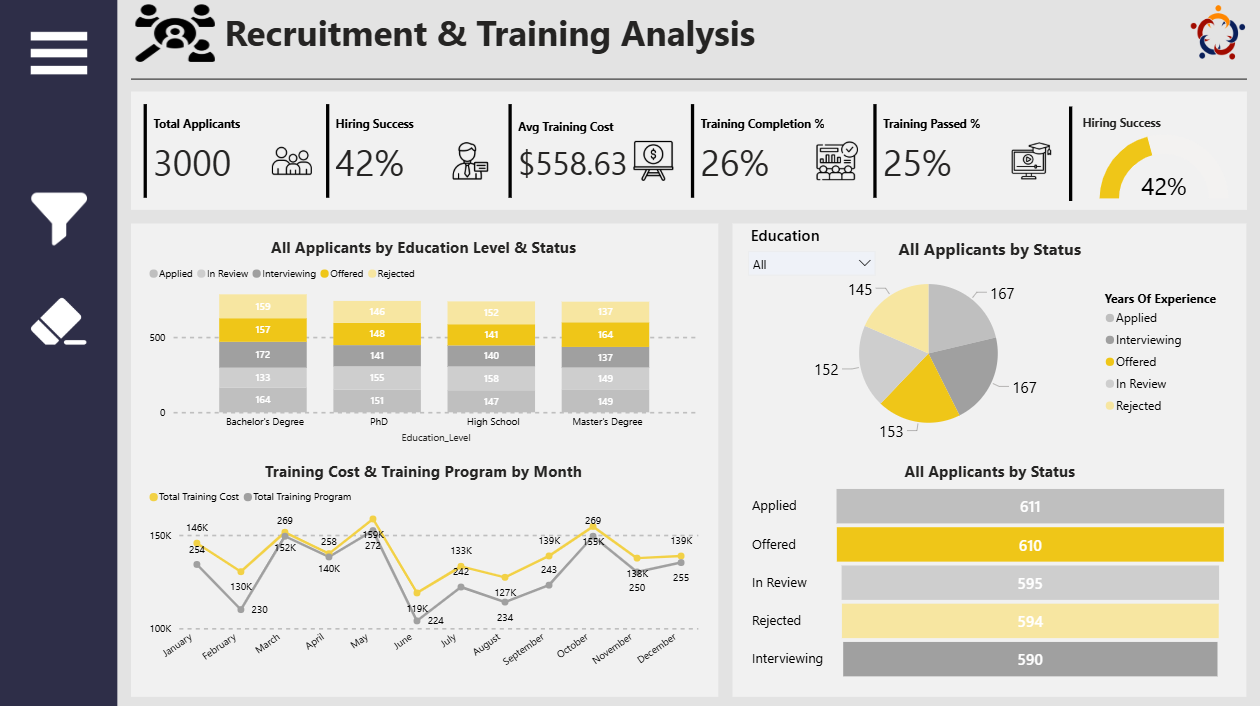

The page's visual inventory and layout, read from the dashboard file:
{"tool":"powerbi","page":{"name":"Recruitment & Training","canvas":[1536,864],"ordinal":2},"visuals":[{"type":"shape","box":[160,272,714.8,576],"z":0},{"type":"shape","box":[892.7,272,625.5,576],"z":1000},{"type":"shape","box":[160,112,1358.1,144],"z":2000},{"type":"columnChart","title":"All Applicants by Education Level & Status","fields":{"Series":["recruitment_data.Status"],"Y":["Measure Table.Total Applicants"],"Category":["recruitment_data.Education_Level"]},"box":[177.9,288,679.1,256],"z":3000},{"type":"areaChart","title":"Training Cost & Training Program by Month","fields":{"Category":["training_and_development_data.Training_Date.Variation.Date Hierarchy.Year","training_and_development_data.Training_Date.Variation.Date Hierarchy.Month"],"Y":["Measure Table.Total Training Cost"],"Y2":["Measure Table.Total Training Program"]},"box":[177.9,560,679.1,272],"z":4000},{"type":"pieChart","title":"All Applicants by Status","fields":{"Category":["recruitment_data.Status","recruitment_data.Years_of_Experience"],"Y":["Measure Table.Total Applicants"]},"box":[910.5,288,589.7,256],"z":5000},{"type":"funnel","title":"All Applicants by Status","fields":{"Category":["recruitment_data.Status","recruitment_data.Education_Level"],"Y":["Measure Table.Total Applicants"]},"box":[910.5,560,589.7,272],"z":6000},{"type":"gauge","fields":{"Y":["Measure Table.Hiring Success"]},"box":[1312.5,128.8,207.5,129],"z":7000},{"type":"cardVisual","fields":{"Data":["Measure Table.Total Applicants","Measure Table.Hiring Success","Measure Table.Avg Training Cost","Measure Table.Training Completion %","Measure Table.Training Passed %"]},"box":[160,112,1125.8,144],"z":8000},{"type":"textbox","box":[267.2,0,1268.8,80],"z":9000},{"type":"shape","box":[160,80,1358.1,32],"z":10000},{"type":"image","box":[160,0,107.2,80],"z":11000},{"type":"slicer","fields":{"Values":["recruitment_data.Education_Level"]},"box":[901.3,272.9,174.8,64.9],"z":12000},{"type":"shape","box":[1298.8,128.8,12.5,115],"z":13000},{"type":"image","box":[326.4,166.1,59.2,59.2],"z":13500},{"type":"shape","box":[0,0,144,864],"z":15000},{"type":"image","box":[32.4,32.4,80.2,63],"z":17000},{"type":"image","box":[32.4,225.2,80.2,80.2],"z":18000},{"type":"image","box":[32.4,351.2,80.2,80.2],"z":19000},{"type":"image","box":[1443,0,78.3,80.2],"z":20000},{"type":"image","box":[544,166.1,59.2,59.2],"z":22000},{"type":"image","box":[767.3,166.1,59.2,59.2],"z":23000},{"type":"image","box":[988.7,166.1,61.1,59.2],"z":24000},{"type":"image","box":[1227.3,166.1,59.2,59.2],"z":25000}]}

Visuals, with their boxes on the page's 1536x864 design canvas (x1, y1, x2, y2). These are canvas units, not pixel positions in the 1260x706 screenshot, which may show the page scaled, cropped or inside an application window:
shape: (160,272,875,848)
shape: (893,272,1518,848)
shape: (160,112,1518,256)
"All Applicants by Education Level & Status" columnChart: (178,288,857,544)
"Training Cost & Training Program by Month" areaChart: (178,560,857,832)
"All Applicants by Status" pieChart: (910,288,1500,544)
"All Applicants by Status" funnel: (910,560,1500,832)
gauge - Measure Table.Hiring Success: (1312,129,1520,258)
cardVisual - Measure Table.Total Applicants x Measure Table.Hiring Success: (160,112,1286,256)
textbox: (267,0,1536,80)
shape: (160,80,1518,112)
image: (160,0,267,80)
slicer - recruitment_data.Education_Level: (901,273,1076,338)
shape: (1299,129,1311,244)
image: (326,166,386,225)
shape: (0,0,144,864)
image: (32,32,113,95)
image: (32,225,113,305)
image: (32,351,113,431)
image: (1443,0,1521,80)
image: (544,166,603,225)
image: (767,166,826,225)
image: (989,166,1050,225)
image: (1227,166,1286,225)
